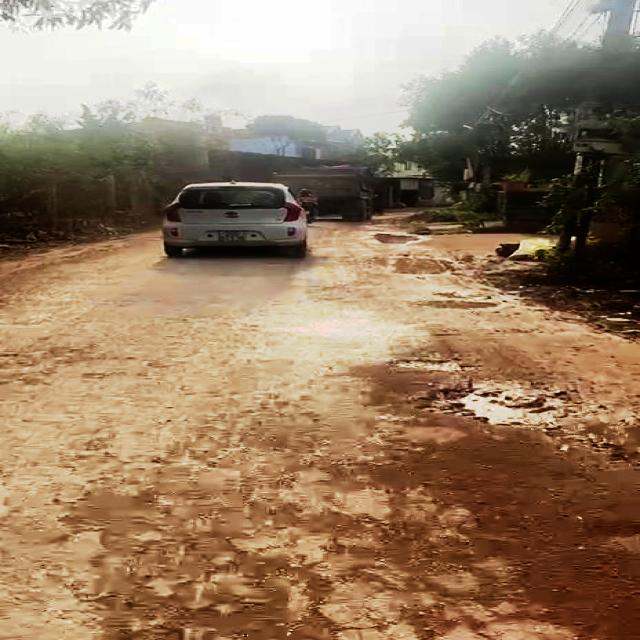pothole: (405, 378, 640, 461), (379, 255, 456, 278), (408, 298, 501, 311), (371, 232, 426, 245)
